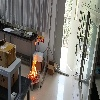fire: (28, 52, 38, 81), (35, 32, 39, 45)
